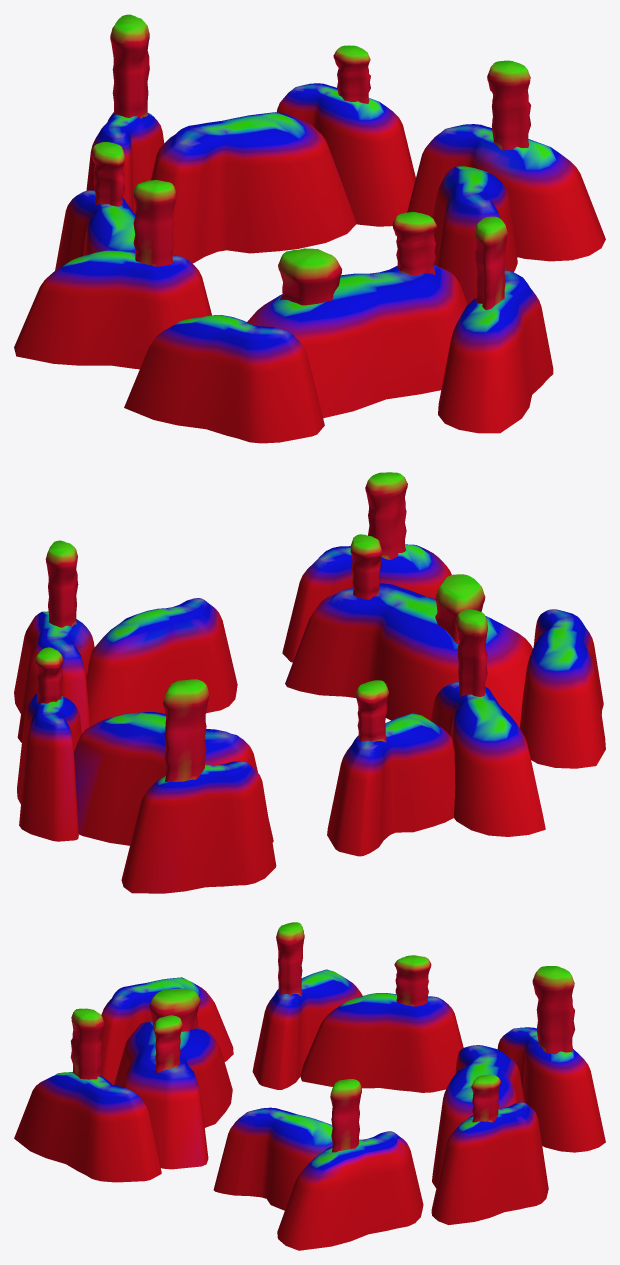
File: Tropics OOB Islands 2.fbx
3 renders of one model, top to bottom at view 1: azimuth 30°, elevation 25°; view 2: azimuth 150°, elevation 25°; view 3: azimuth 270°, elevation 25°, orthographic. The views are drawn at different scales.
Visible parts, largest first — view 1: OOB Islands 2; view 2: OOB Islands 2; view 3: OOB Islands 2.
Boxes of the visible parts, x1=… form: OOB Islands 2: x1=14, y1=14, x2=605, y2=443; OOB Islands 2: x1=14, y1=472, x2=605, y2=893; OOB Islands 2: x1=14, y1=922, x2=605, y2=1250.
Bounding box in the file's own units: 171043 × 56840 × 188754.
